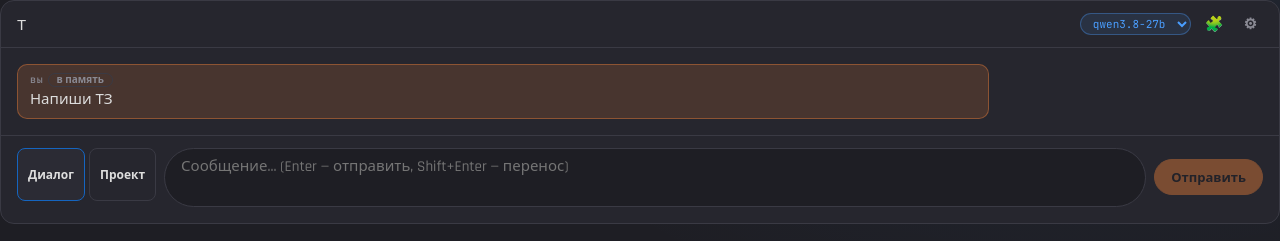
Test: ChatPanel — «в память» (SaveMessageModal) › кнопка «в память» открывает модалку с текстом сообщения; select ровно 2 опции
Expected: the text "Напиши ТЗ" is shown, [30, 90, 113, 109]
Click the button titled "Сохранить в память". click: (80, 80)
box: [48, 73, 113, 87]
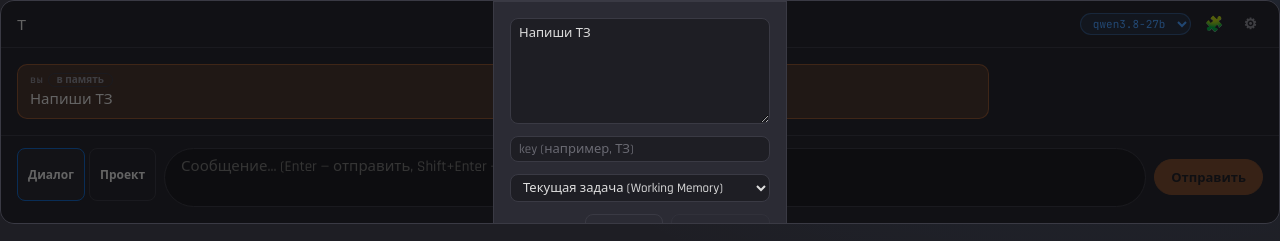
Result: the text box holds "Напиши ТЗ" at [510, 18, 770, 124]
Result: the dropdown shows "Текущая задача (Working Memory)" at [510, 174, 770, 202]
